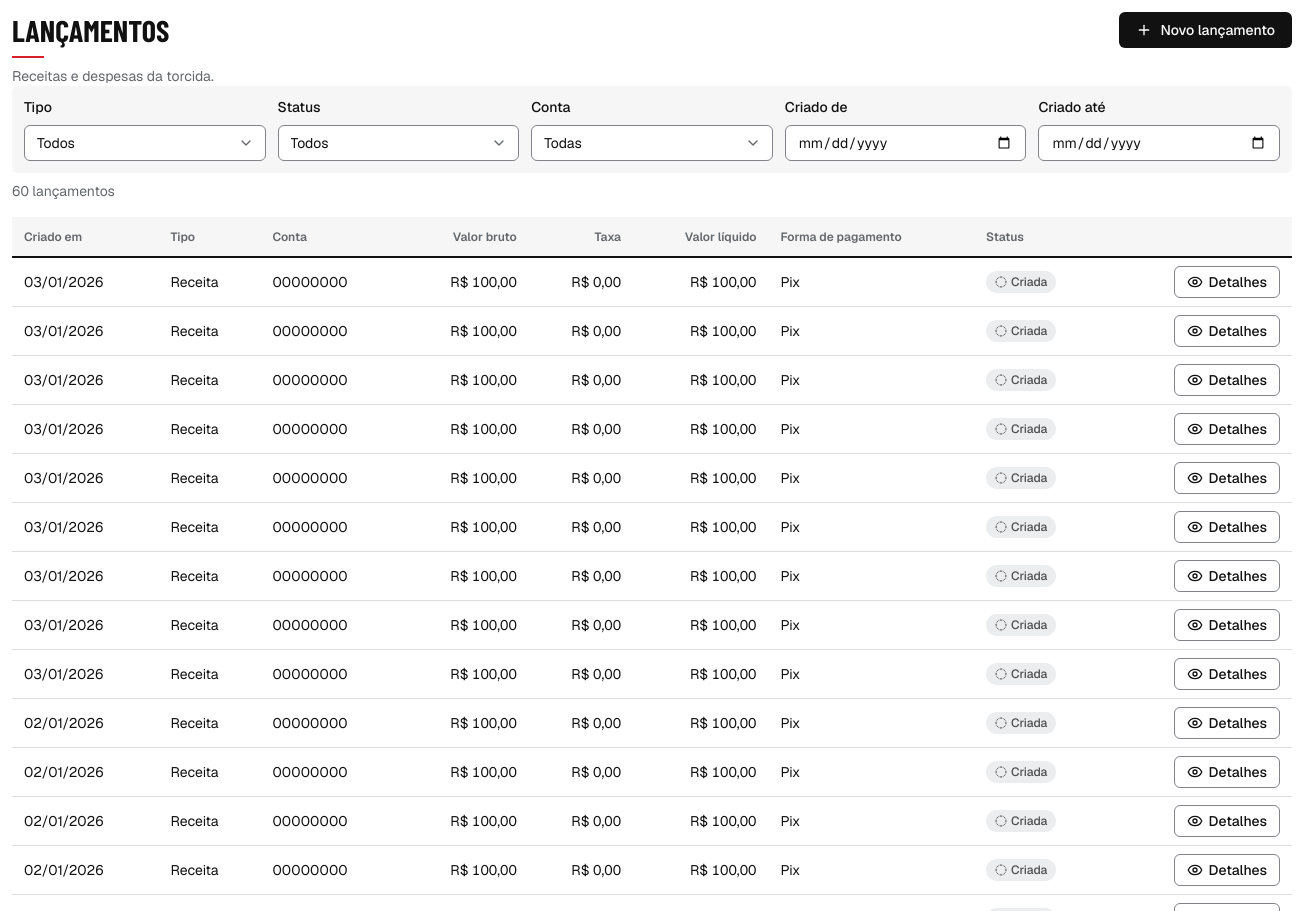
Test: mostrar mais › o filtro considera todos os registros, não só os 50 visíveis
This screenshot has width=1304, height=911.
Expected: the heading "Lançamentos" is shown, [12,12,169,58]
Select "Recebida" in the dropdown labelled "Status": point(398, 143) [278,125,519,161]
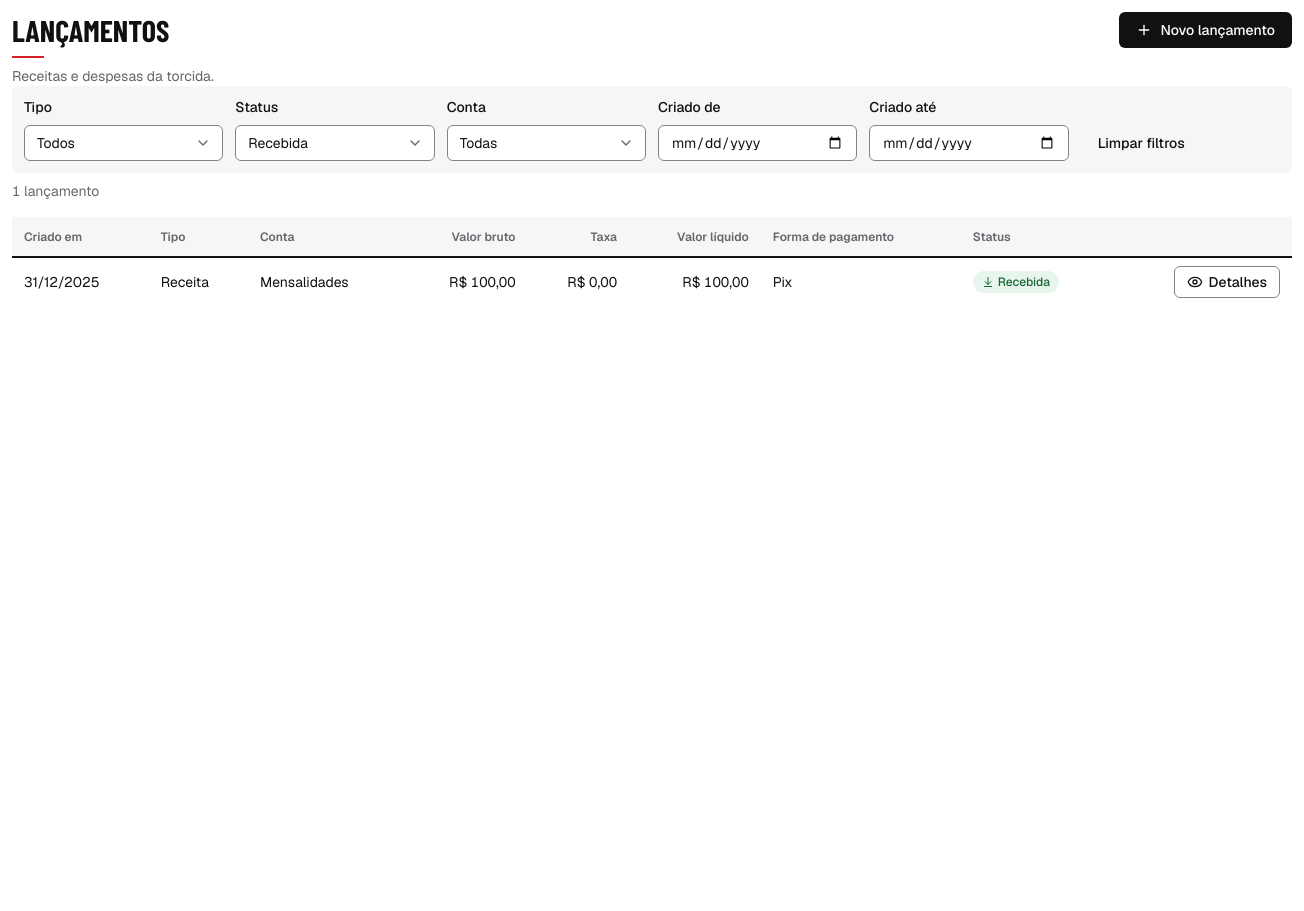
Now the text "1 lançamento" is shown, box [12,182,99,200]
